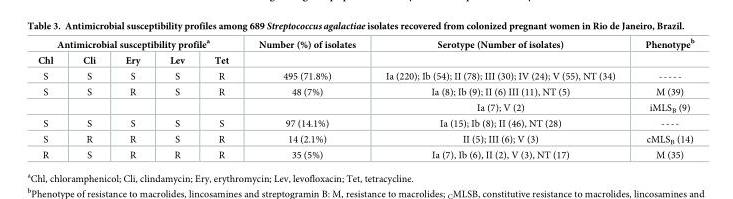table: (37, 37, 693, 159)
table column: (369, 37, 629, 159), (243, 37, 369, 159), (629, 37, 693, 159), (109, 37, 154, 159), (198, 37, 243, 159), (154, 37, 198, 159), (67, 37, 109, 159), (37, 37, 67, 159)
table column header: (37, 37, 693, 67)
table row: (37, 67, 693, 83), (37, 83, 693, 99), (37, 99, 693, 115), (37, 115, 693, 131), (37, 131, 693, 147), (37, 37, 693, 52), (37, 52, 693, 67), (37, 147, 693, 159)
table spanning cell: (369, 37, 629, 67), (243, 37, 369, 67), (37, 37, 243, 52), (629, 37, 693, 67), (37, 83, 67, 115)
